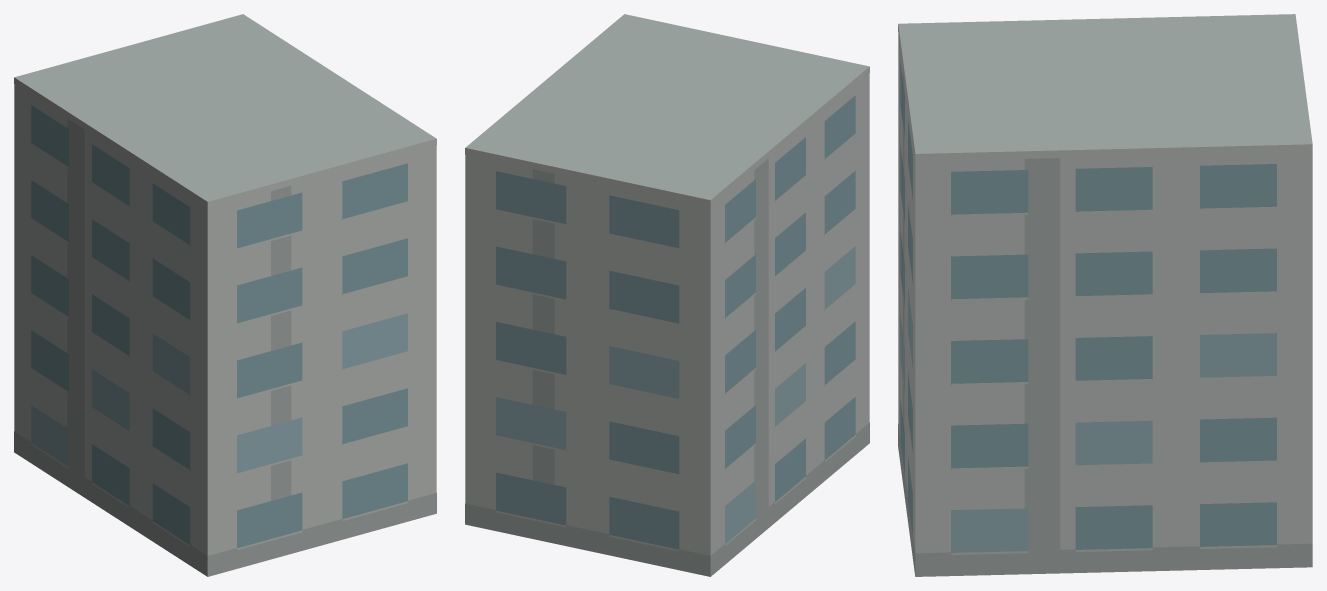
The model's file is survey-upis-32889412.glb.
3 views of the same model, side by side, from view 1: azimuth 30°, elevation 25°; view 2: azimuth 150°, elevation 25°; view 3: azimuth 270°, elevation 25° (orthographic). The views are drawn at different scales.
Parts seen in each view (by area): view 1: survey-upis-32889412.tmp; view 2: survey-upis-32889412.tmp; view 3: survey-upis-32889412.tmp.
Part boxes in pixels (<box>): survey-upis-32889412.tmp: <box>14,14,436,576</box>; survey-upis-32889412.tmp: <box>465,14,869,576</box>; survey-upis-32889412.tmp: <box>898,14,1312,576</box>.
Size of the model in its own units: 9.61 by 13.53 by 12.03.
